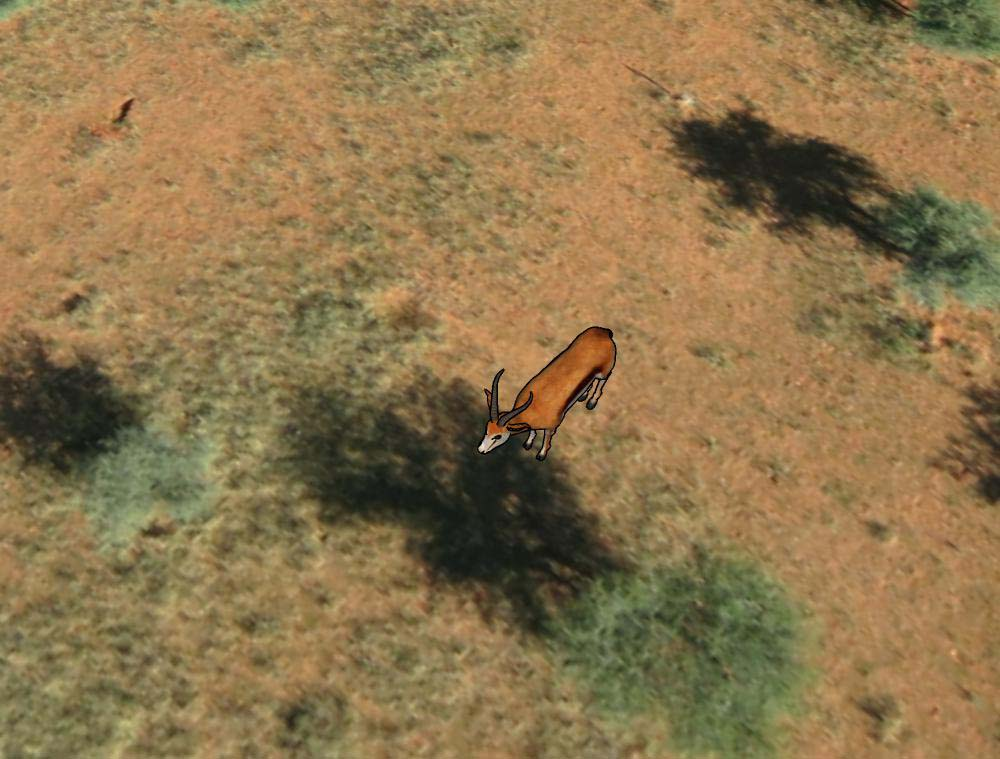springbok: (476, 323, 618, 462)
